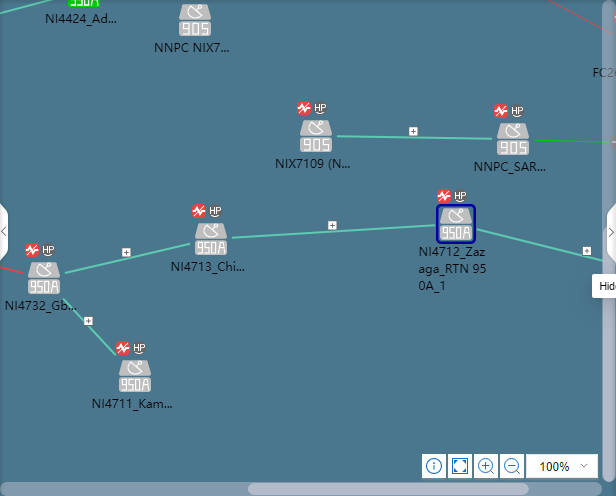Link_Blue: (477, 227, 603, 264), (64, 242, 191, 275), (61, 297, 117, 357), (232, 223, 435, 239), (335, 134, 492, 141), (0, 0, 52, 17)
Link_Green: (531, 138, 609, 144)
Link_Red: (545, 0, 614, 41)
RTN_Gray: (439, 208, 472, 240), (119, 360, 150, 392), (300, 120, 331, 151), (497, 123, 528, 154), (195, 223, 226, 254), (179, 4, 210, 35), (28, 262, 59, 293)
